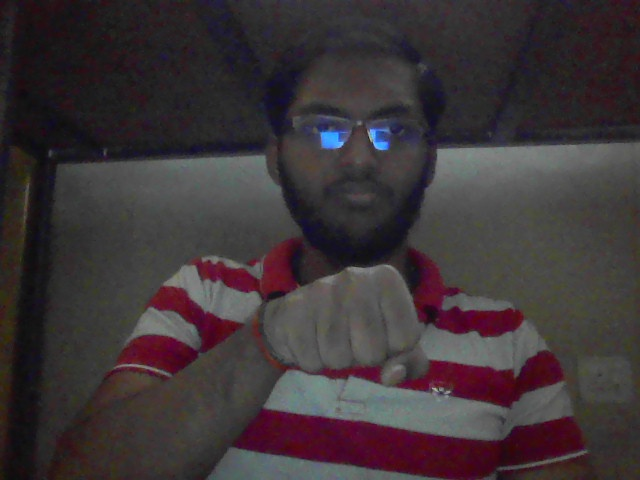Not_Hungry: (248, 257, 445, 389)
